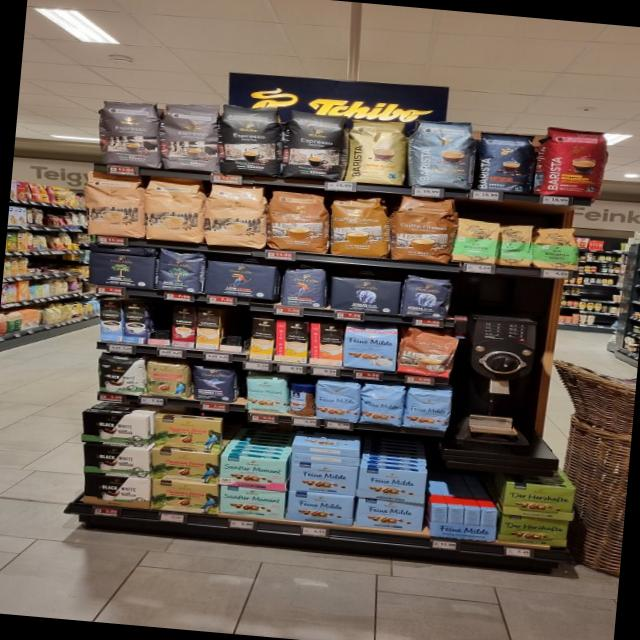AB Bohne: (395, 273, 459, 321)
AB Gemahlen: (325, 274, 405, 317)
Athiopien Bohne: (530, 225, 580, 270)
Athiopien Gemahlen: (450, 216, 501, 266), (495, 222, 537, 269)
BM Bohne: (152, 247, 209, 296)
BM Gemahlen: (83, 246, 160, 290)
BW Bohne: (97, 352, 147, 397)
BW Gemahlen: (80, 408, 150, 447), (80, 473, 151, 509), (81, 443, 150, 478)
Barista CB: (340, 118, 412, 187)
Barista CC: (404, 115, 479, 191)
Barista Espresso: (472, 128, 543, 195)
Barista Kolumbien: (535, 125, 612, 200)
C Fino Bohne: (191, 363, 238, 403)
CC Mild: (202, 181, 271, 250), (82, 169, 149, 239), (143, 175, 208, 246)
CC Vollmundig: (394, 325, 462, 379)
CC Vollmundig 36 Pads: (385, 194, 460, 266), (327, 193, 398, 261), (265, 186, 332, 256)
Colombia BB Bohne: (144, 358, 193, 400)
Colombia BB Gemahlen: (151, 415, 222, 451), (150, 448, 219, 484), (151, 479, 221, 513)
Empty Shelf: (218, 309, 251, 353), (145, 301, 174, 345)
Espresso Aromatisch: (94, 96, 165, 169), (154, 102, 225, 174)
Espresso Kraftig: (277, 110, 350, 184), (218, 105, 286, 182)
FM 36 Pads: (342, 320, 399, 374)
FM Bohne: (402, 385, 457, 432), (358, 381, 410, 429), (313, 378, 363, 424)
FM Gemahlen: (355, 466, 427, 504), (284, 490, 355, 526), (355, 496, 426, 532)
FM Instant: (286, 379, 318, 418)
Herzhatfe Mundig: (501, 482, 577, 521), (497, 514, 572, 548)
LG Bohne: (275, 264, 331, 310)
LG Gemahlen: (200, 258, 278, 300)
SM Bohne: (246, 374, 290, 414)
SM Gemahlen: (217, 454, 287, 491), (288, 461, 359, 496), (217, 485, 287, 519)
Simo CCMild: (274, 319, 310, 363)
Simo CCMild bigpack: (247, 317, 277, 361)
Simo CCVollmundig: (308, 322, 346, 366)
Simo Decaff: (193, 306, 222, 350)
Simo Es Caramel: (171, 303, 197, 348)
Simo Es Kraft: (120, 299, 151, 344)
Simo Es Vanilla: (97, 299, 125, 342)
